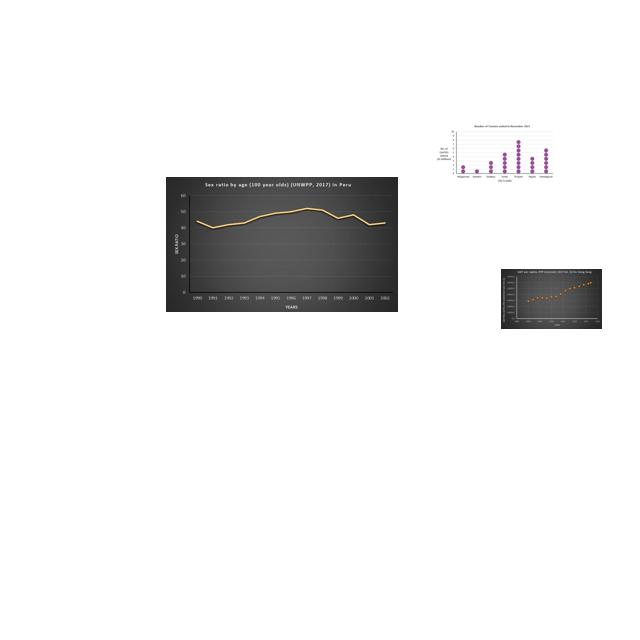Graph: (166, 177, 398, 312), (436, 124, 554, 184), (501, 269, 602, 329)
